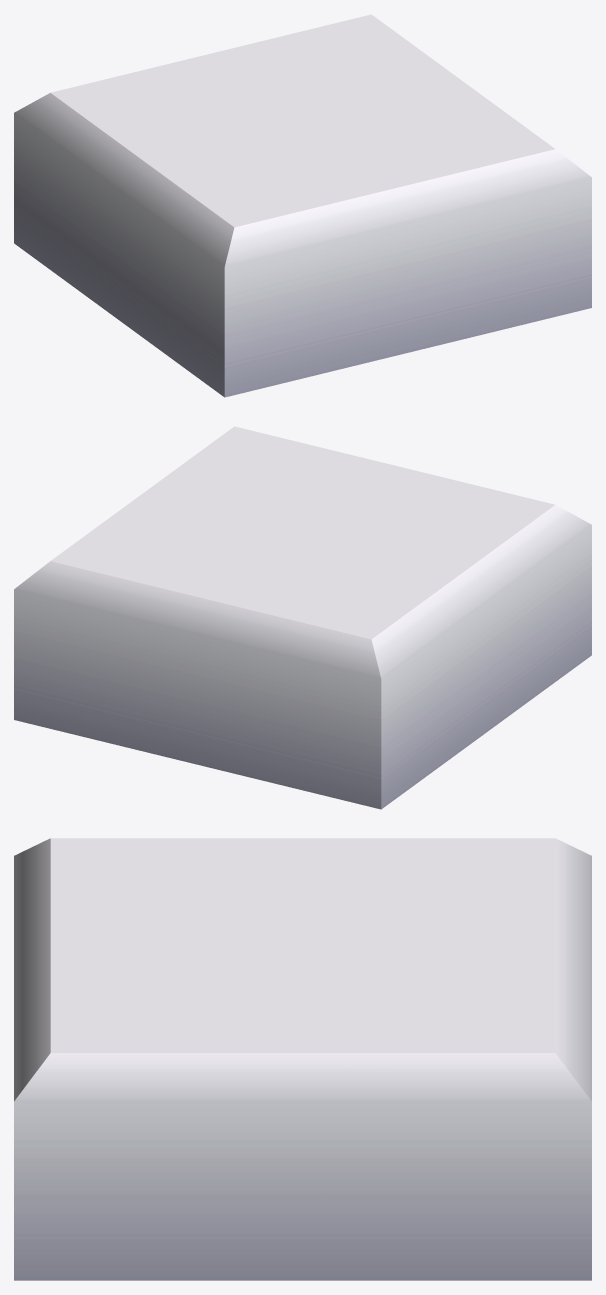
File: none-hq-plate-1x1.glb
3 renders of one model, top to bottom at view 1: azimuth 30°, elevation 25°; view 2: azimuth 150°, elevation 25°; view 3: azimuth 270°, elevation 25°, orthographic. The views are drawn at different scales.
Visible parts, largest first — view 1: none-hq-plate-1x1; view 2: none-hq-plate-1x1; view 3: none-hq-plate-1x1.
Boxes of the visible parts, left/top/right/bottom form: none-hq-plate-1x1: left=14, top=14, right=591, bottom=397; none-hq-plate-1x1: left=14, top=426, right=591, bottom=809; none-hq-plate-1x1: left=14, top=838, right=591, bottom=1280.
Bounding box in the file's own units: 0.0795 × 0.032 × 0.079.
Materials: 1 (1 with a texture image).
